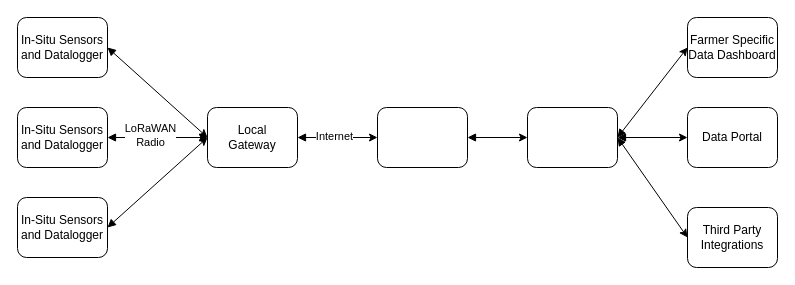
The diagram is 795 pixels wide and 285 high, and some of its shapes have lost their labels. Each missing label, with the box of its shape:
Data APIs: (526, 106, 618, 168)
RRIV Cloud: (376, 106, 468, 168)
